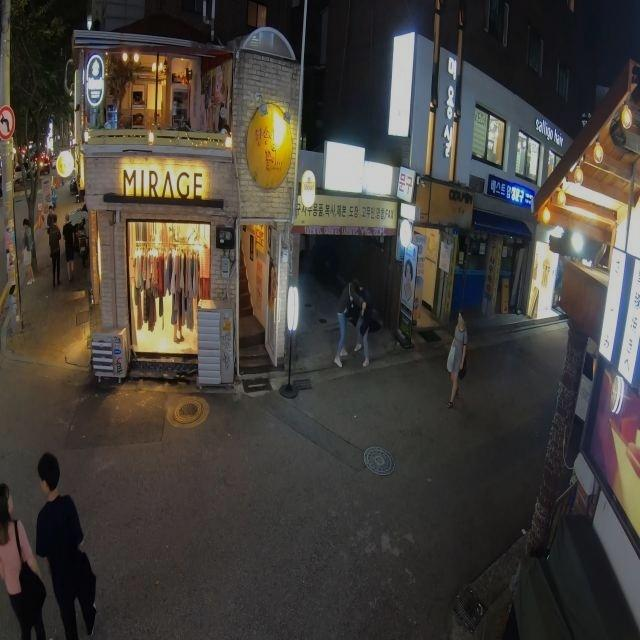fight: (334, 272, 381, 374)
non-fight: (34, 453, 96, 637), (1, 485, 50, 638), (446, 313, 468, 406)
